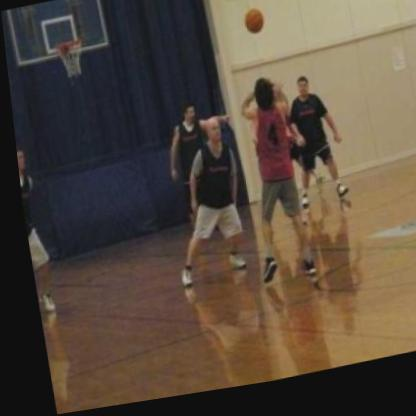basketball: (237, 7, 268, 48)
